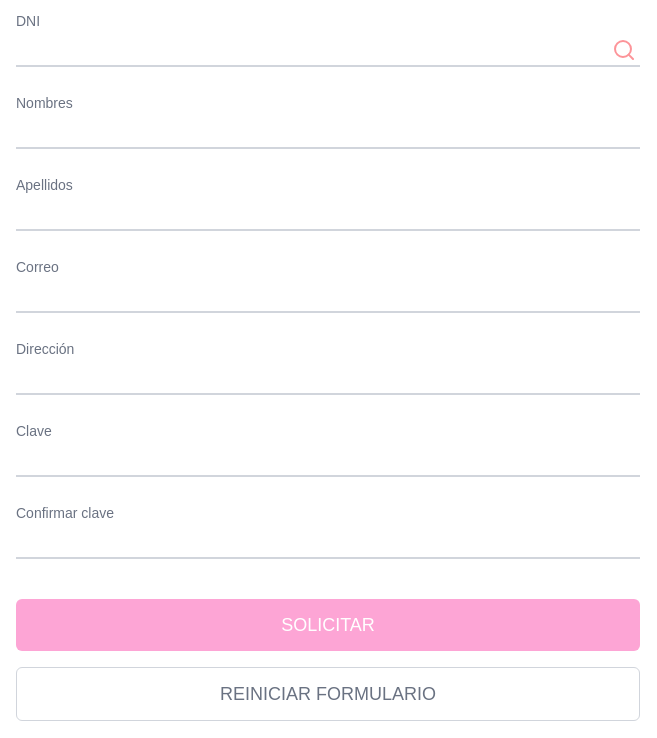
Test: Home Component › should populate names after successful DNI search
Type "12345678" into the field below "DNI".
click(328, 50); type("12345678")  # box [16, 33, 640, 67]
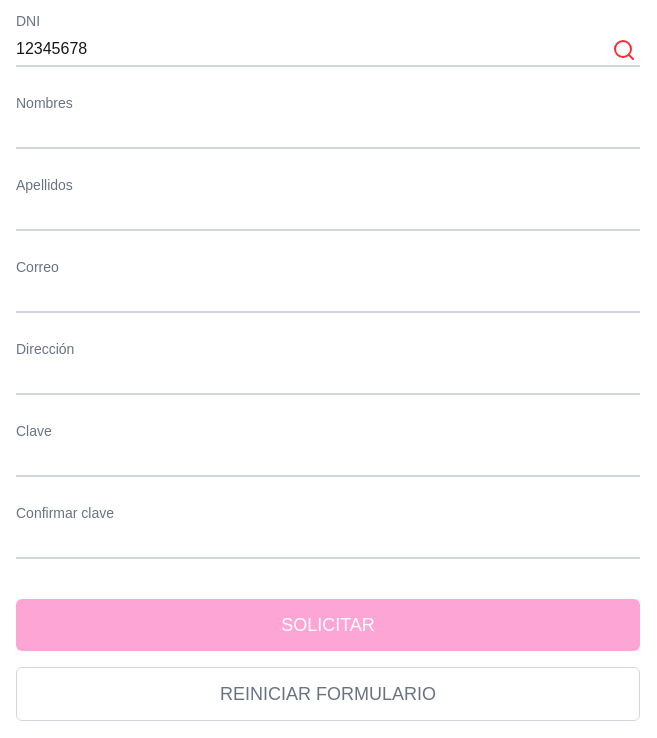
Click the 1st button.
click(624, 50)  # box [608, 34, 640, 66]
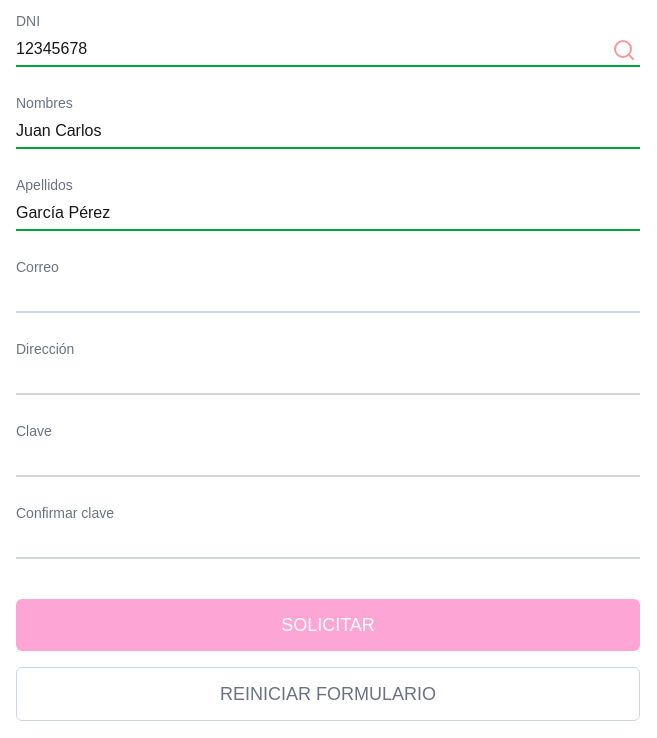
Expected: the field showing "Juan Carlos" below "Nombres" is shown, [16, 115, 640, 149]
Expected: the field showing "García Pérez" below "Apellidos" is shown, [16, 197, 640, 231]
